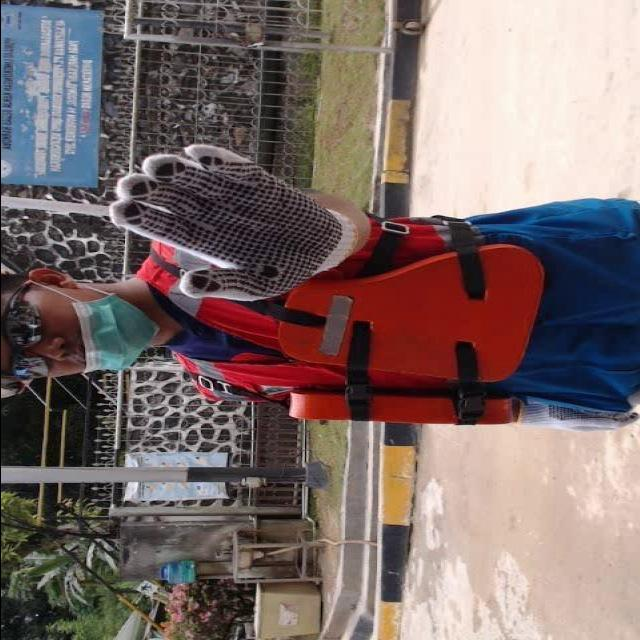jacket: (86, 159, 546, 460)
